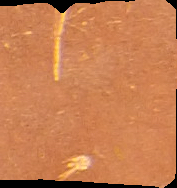soil: (1, 2, 176, 187)
